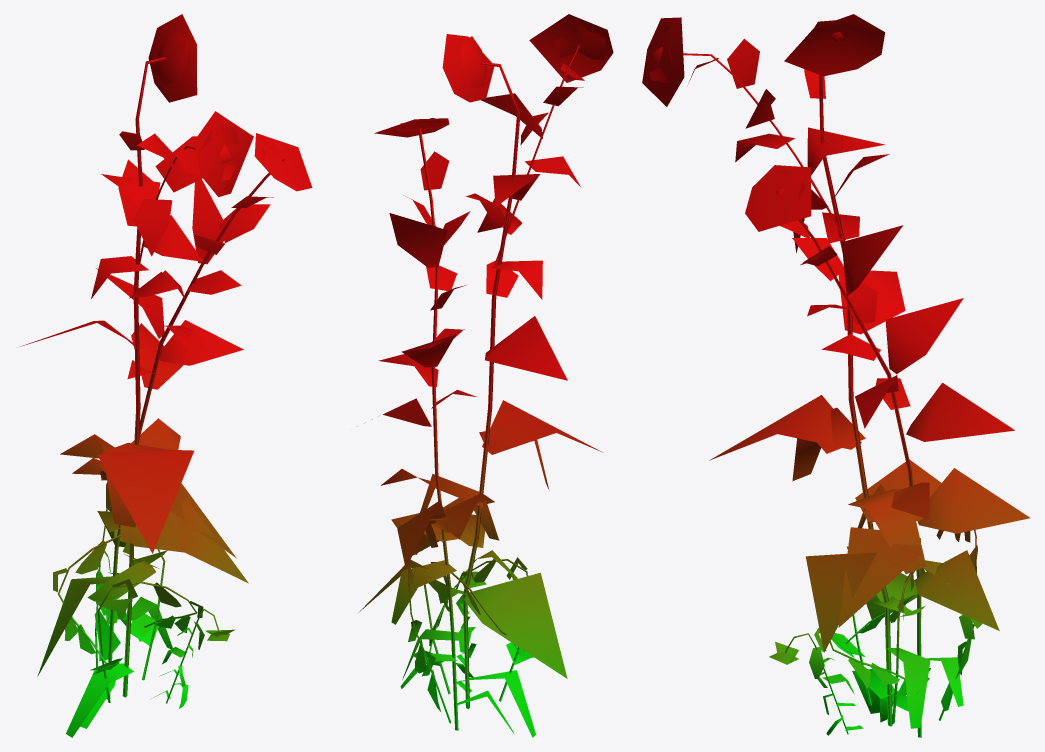
File: Var4_LOD2.fbx
The picture shows the model from 3 angles, left to right: view 1: azimuth 30°, elevation 25°; view 2: azimuth 150°, elevation 25°; view 3: azimuth 270°, elevation 25°; orthographic projection. The views are drawn at different scales.
Parts seen in each view (by area): view 1: _c98a_Var4_LOD2; view 2: _c98a_Var4_LOD2; view 3: _c98a_Var4_LOD2.
Boxes of the visible parts, x1,y1,x2,y2 form: _c98a_Var4_LOD2: [19, 14, 312, 737]; _c98a_Var4_LOD2: [358, 14, 613, 737]; _c98a_Var4_LOD2: [642, 14, 1030, 737].
Size of the model in its own units: 25.55 by 70.57 by 33.01.
